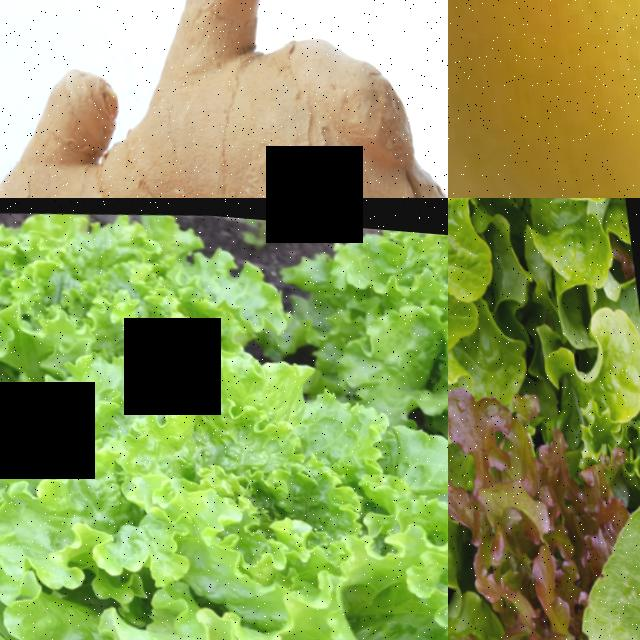ginger: (0, 0, 448, 198)
lemon: (448, 0, 640, 198)
lettuce: (0, 330, 448, 640), (0, 198, 282, 385), (448, 198, 640, 387), (302, 215, 448, 407)
